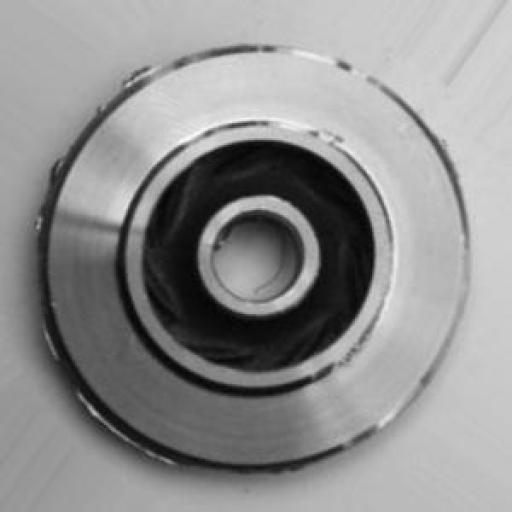defect: (36, 31, 481, 479)
